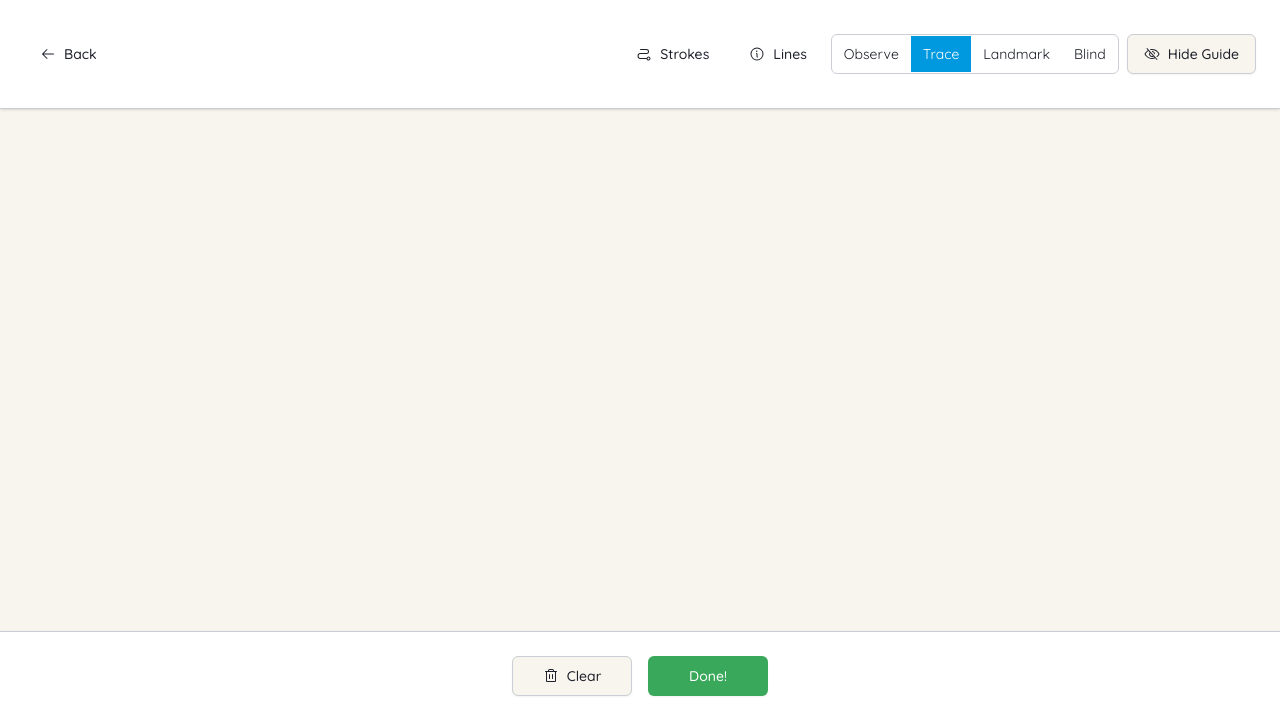
Scenario: PracticeScreen › opens the stroke order demo as a watch-only alternative
Click the button with aria-label "Watch stroke order demo" at coordinates (673, 54), box left=620, top=34, right=725, bottom=74
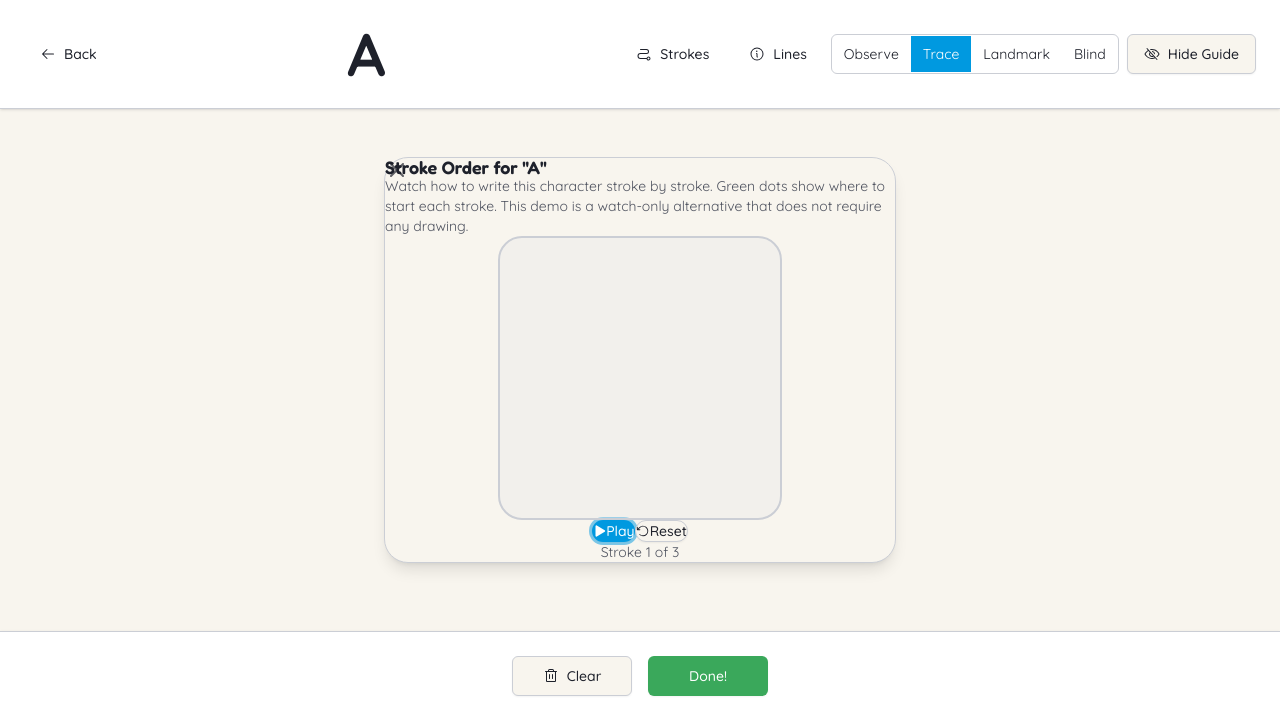
Expected: the heading "Stroke Order for \"A\"" is shown, left=385, top=156, right=547, bottom=178
Expected: the text "watch-only alternative" is shown, left=385, top=177, right=885, bottom=235
